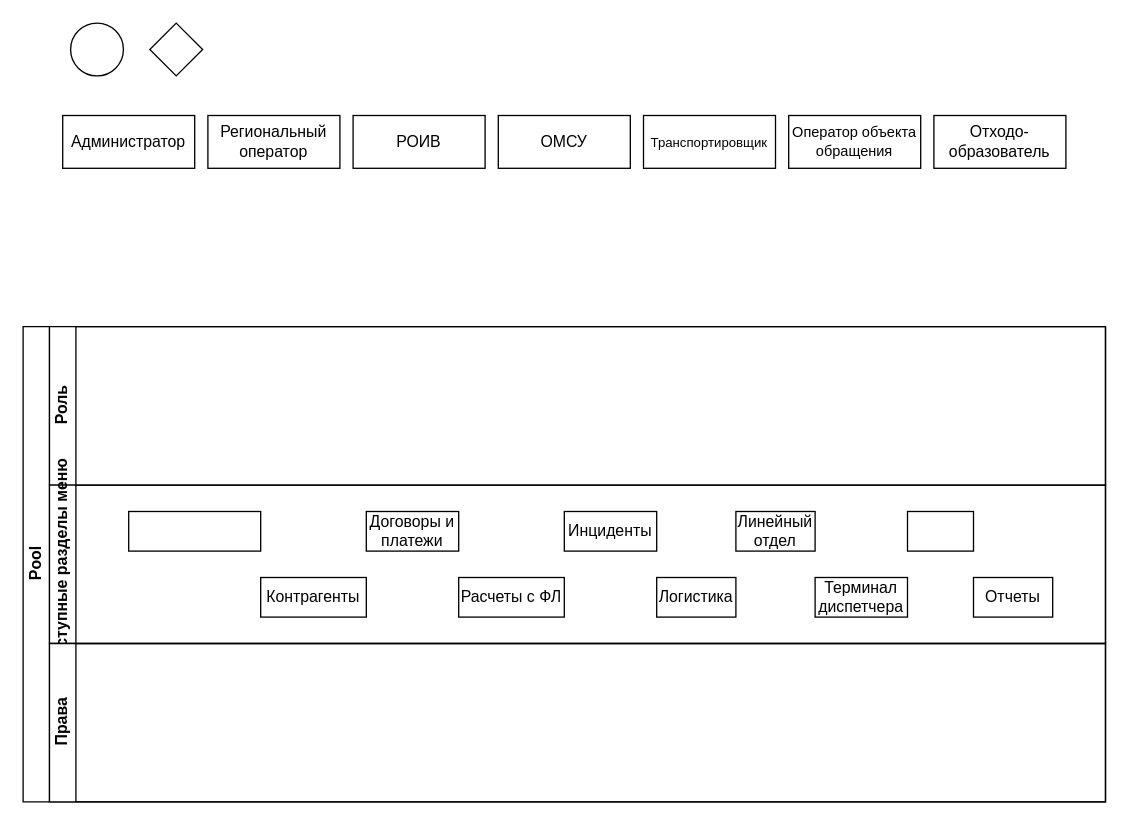
This 1129x825 diagram has some shape labels left out. Each missing label, with the box of its shape:
НСИ: (906, 510, 974, 551)
Объекты инфраструктуры: (127, 510, 261, 551)
